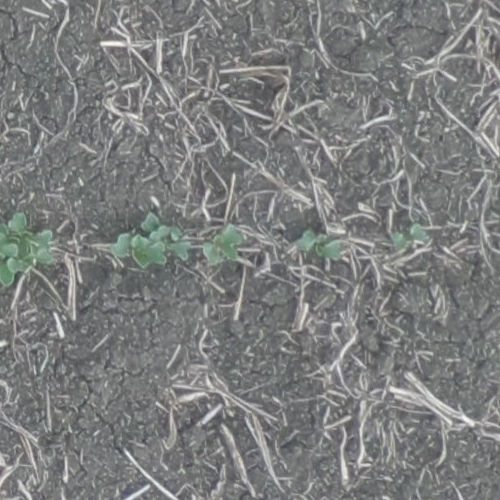plant: (113, 220, 193, 269), (0, 214, 50, 289), (202, 221, 241, 265), (301, 228, 342, 258), (392, 224, 430, 248)
